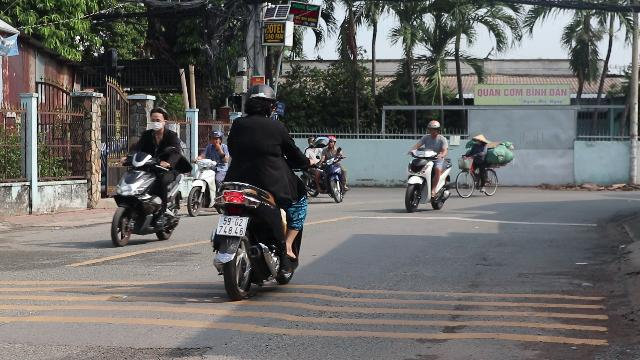helmet: (242, 83, 276, 117)
licenseplate: (216, 216, 248, 236)
motorcyclist: (206, 82, 312, 298), (108, 105, 188, 246)
nohelmet: (148, 106, 168, 132)
